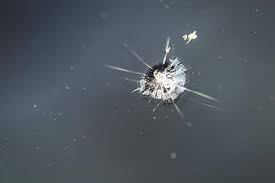bullseye: (97, 26, 231, 130)
